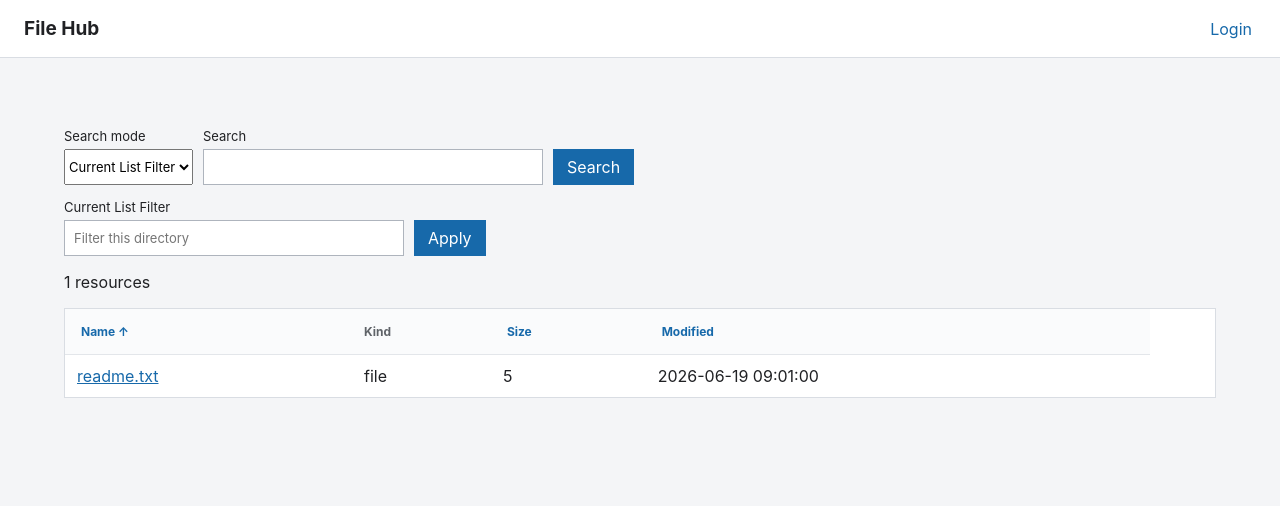
Scenario: File Hub browser › logs in and exposes a file read action
Step 1. Click the button with id "login-action" → x=1231, y=28, box [1206,14,1256,42]
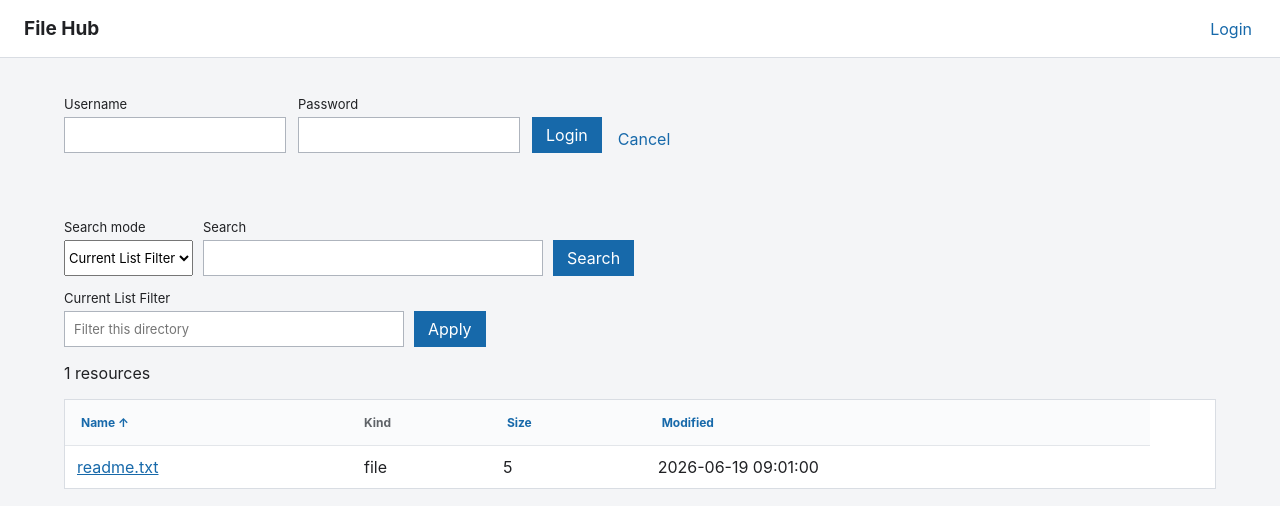
Step 2. Type "admin" into the field with id "login-username" → x=175, y=135, box [64,117,286,153]
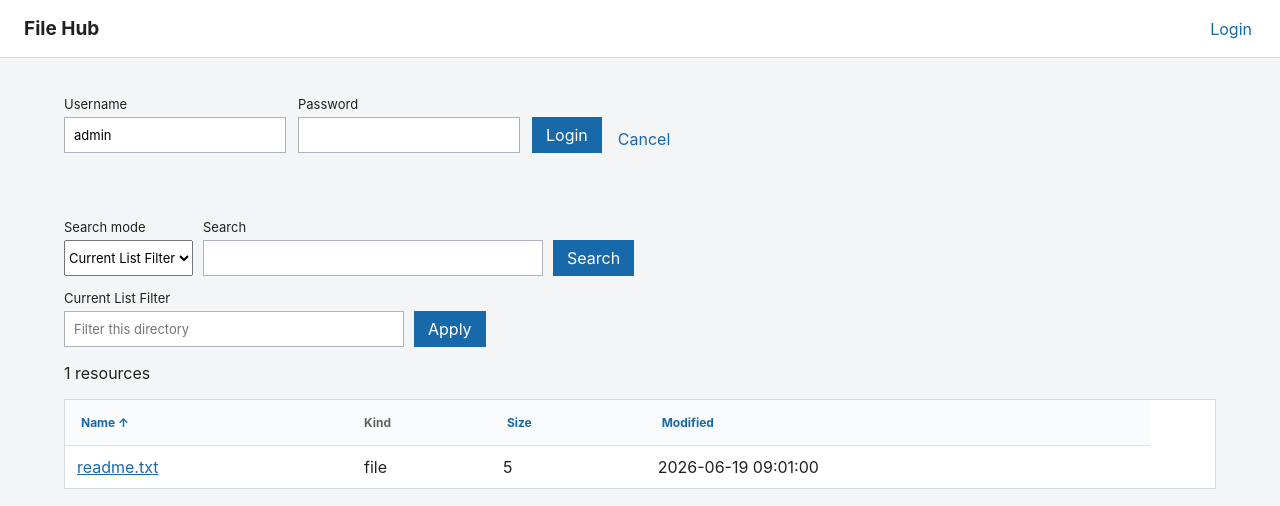
Step 3. Type "bootstrap-password" into the password field with id "login-password" → x=409, y=135, box [298,117,520,153]
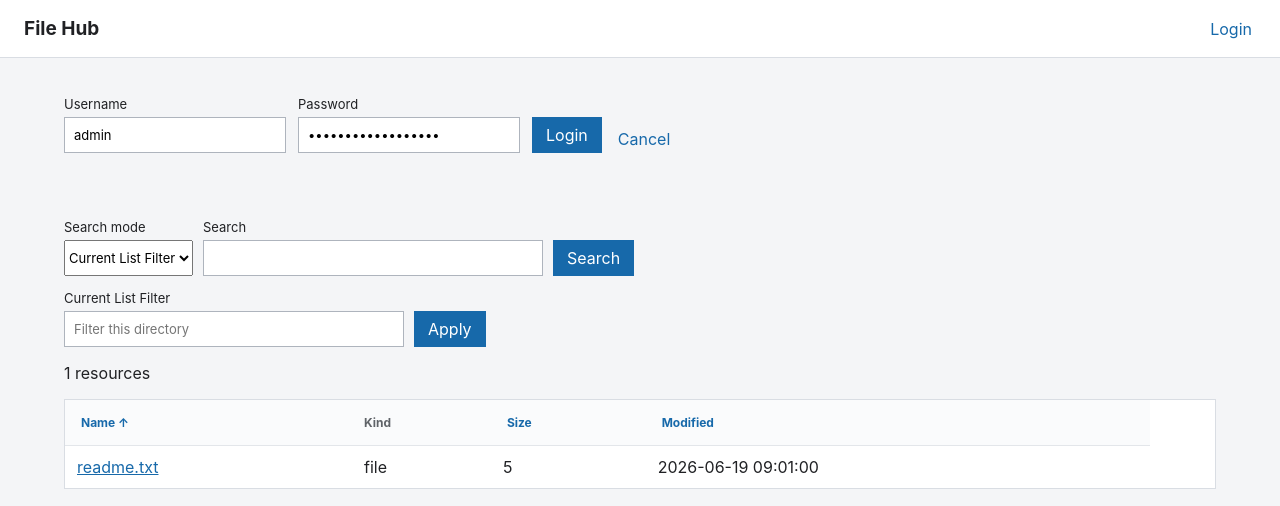
Step 4. Submit the form with id "login-form", box [64,96,674,153]
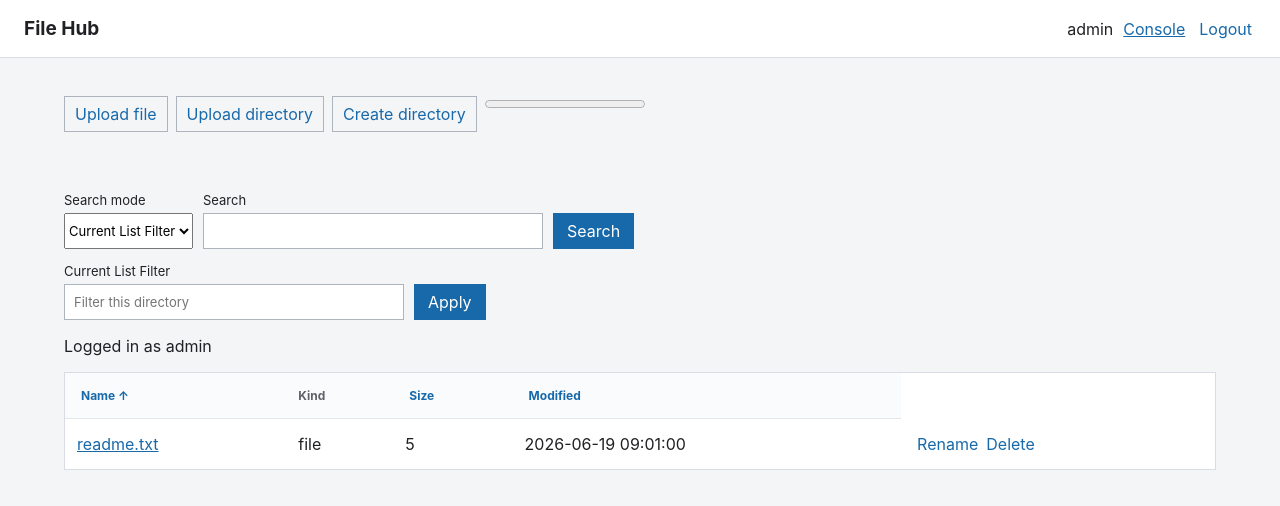
Expected: the element named "Identity Area" shows "admin", [1067,18,1113,38]
